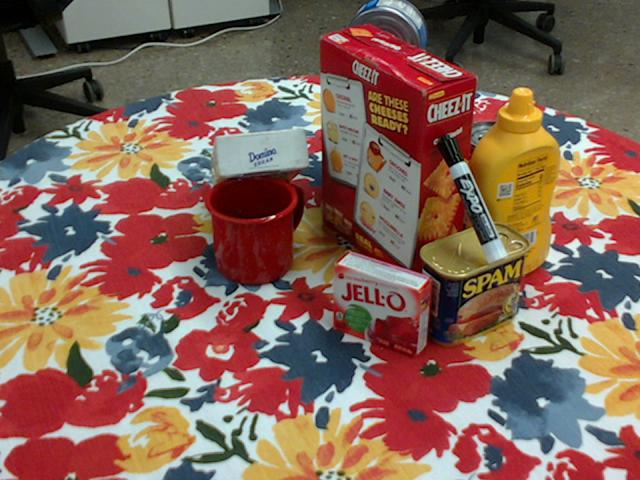cracker_box: (318, 26, 474, 289)
gelatin_box: (332, 249, 433, 356)
large_marker: (436, 134, 508, 262)
master_chef_can: (323, 57, 416, 207)
mug: (205, 173, 306, 284)
mustard_bottle: (460, 88, 559, 281)
potted_meat_can: (419, 221, 531, 346)
sugar_box: (210, 130, 309, 188)
tomato_soup_can: (455, 122, 525, 232)
tuna_fish_can: (344, 0, 426, 81)
